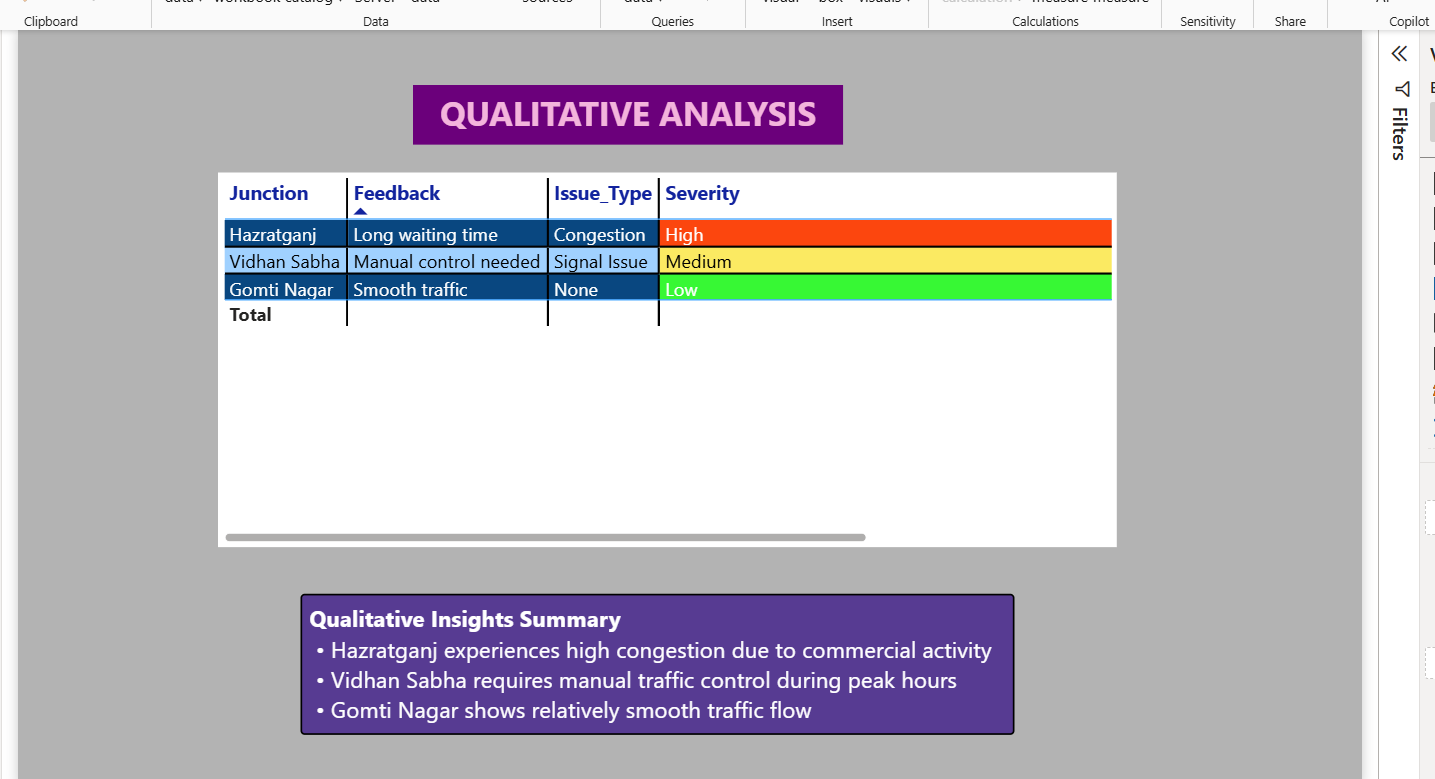

This screenshot's page, from the dashboard's own definition file:
{"tool":"powerbi","page":{"name":"Qualitative Insights","canvas":[1280,720],"ordinal":1},"visuals":[{"type":"tableEx","fields":{"Values":["Qualitative_Data.Junction","Qualitative_Data.Feedback","Qualitative_Data.Issue_Type","Qualitative_Data.Severity"]},"box":[190.5,135.7,856,357.1],"z":0},{"type":"textbox","box":[269,536.9,679.8,134.5],"z":1000},{"type":"textbox","box":[376.2,52.4,409.5,57.1],"z":1001}]}

Visuals, with their boxes on the page's 1280x720 design canvas (x1, y1, x2, y2). These are canvas units, not pixel positions in the 1435x779 screenshot, which may show the page scaled, cropped or inside an application window:
tableEx - Qualitative_Data.Junction x Qualitative_Data.Feedback: Rect(190, 136, 1046, 493)
textbox: Rect(269, 537, 949, 671)
textbox: Rect(376, 52, 786, 110)
